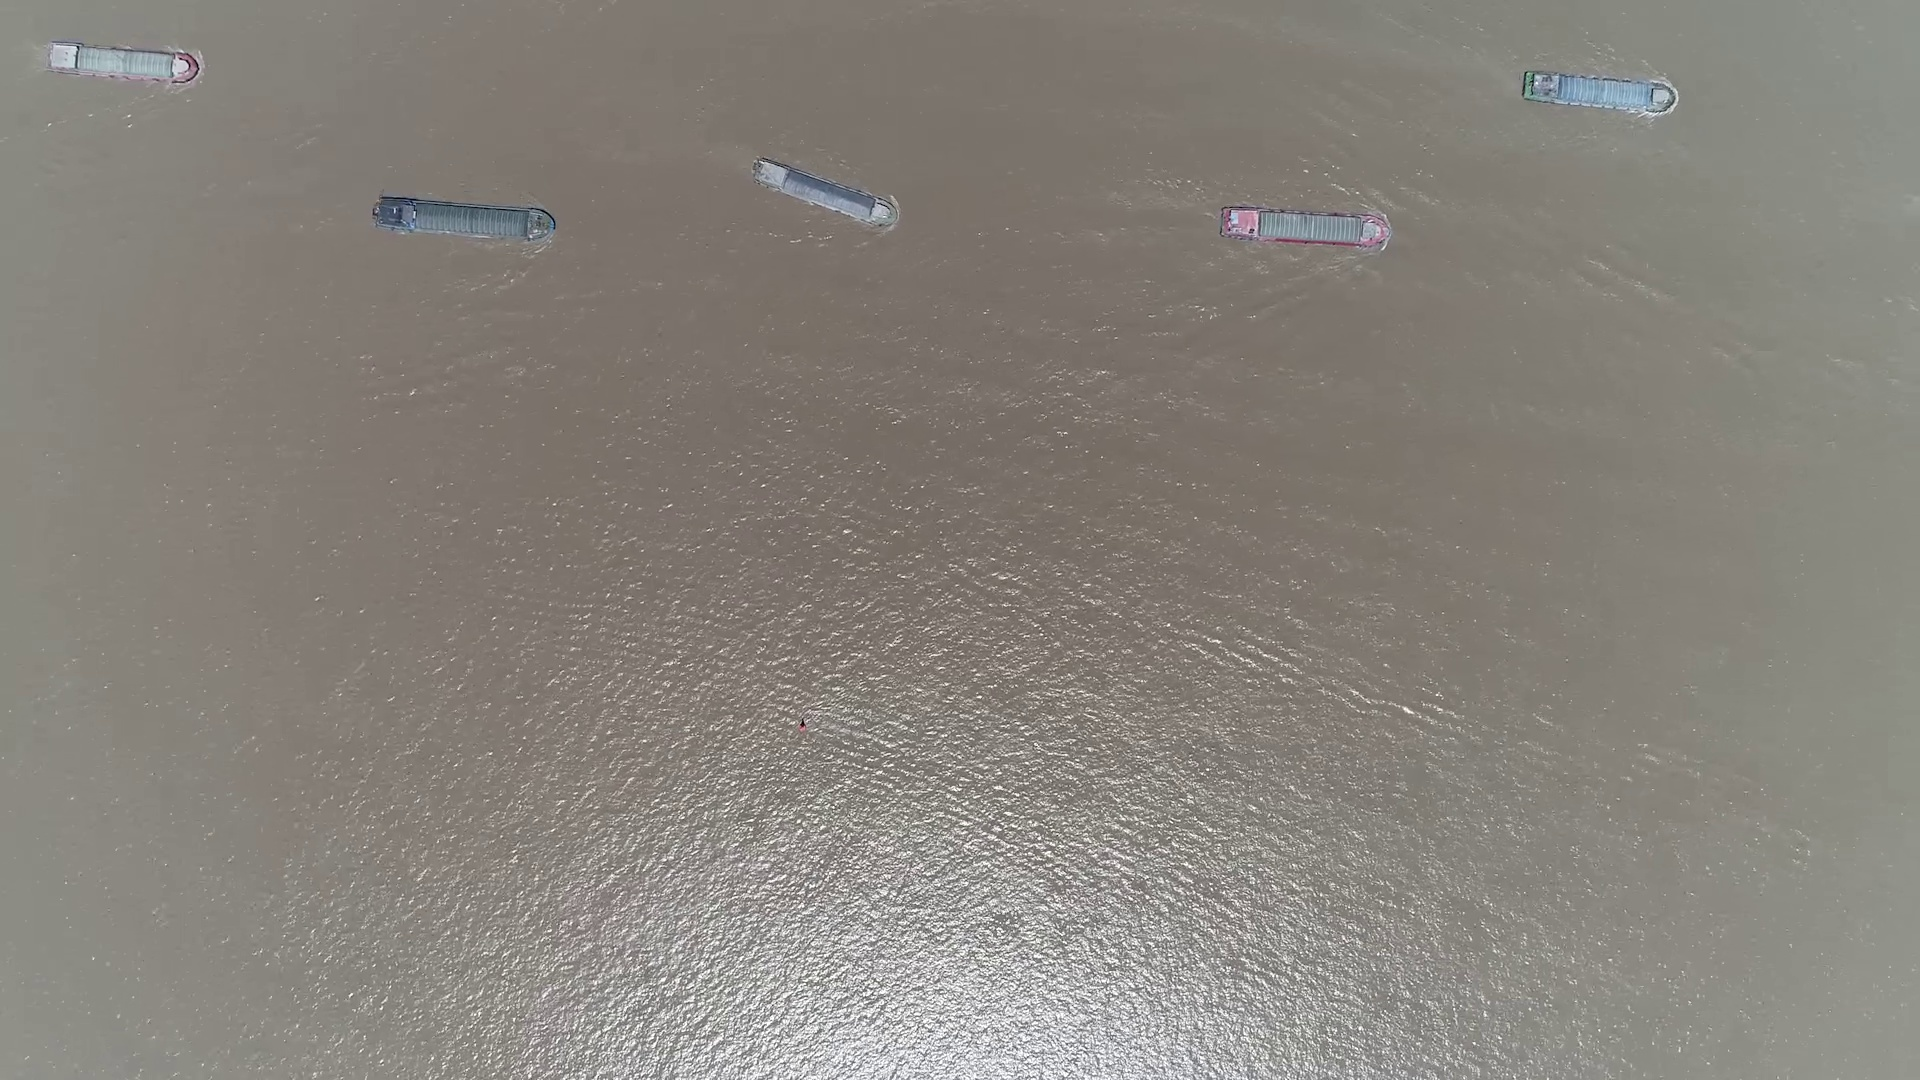ship: (750, 160, 895, 227), (371, 199, 554, 243), (1218, 207, 1391, 247), (1520, 73, 1673, 111), (42, 44, 198, 80)
